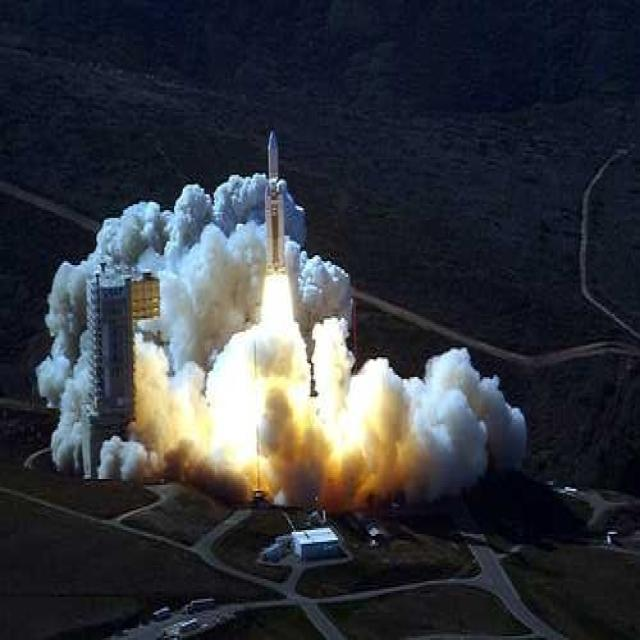missile: (260, 123, 292, 288)
